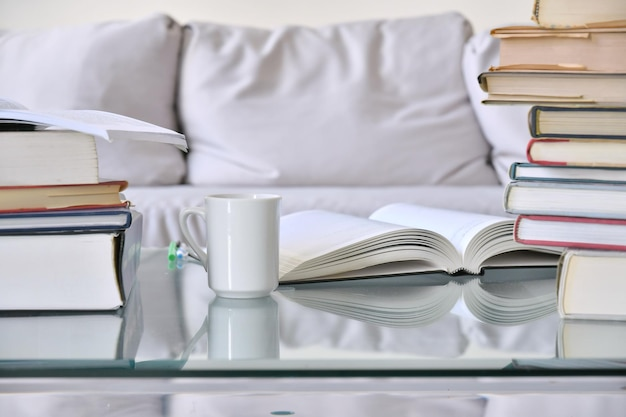not a gesture sign: (137, 188, 475, 296)
